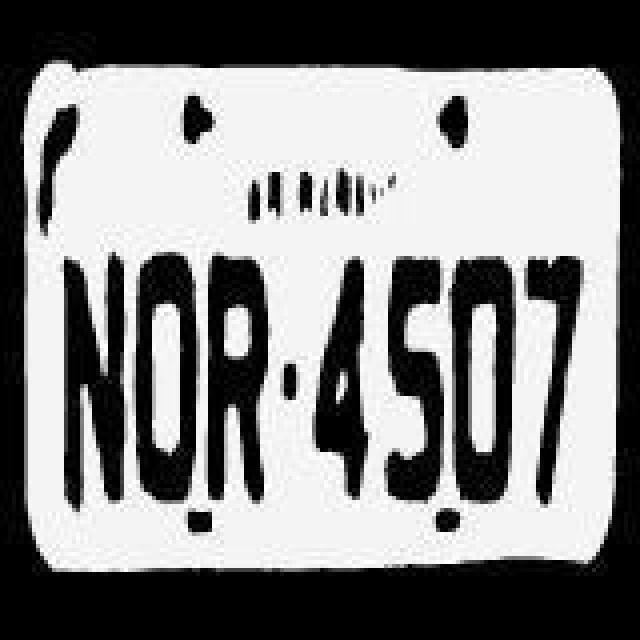4: (310, 242, 378, 502)
5: (380, 246, 444, 506)
7: (524, 226, 588, 510)
N: (58, 248, 134, 520)
O: (450, 234, 518, 510), (132, 256, 204, 512)
R: (200, 252, 280, 508)
